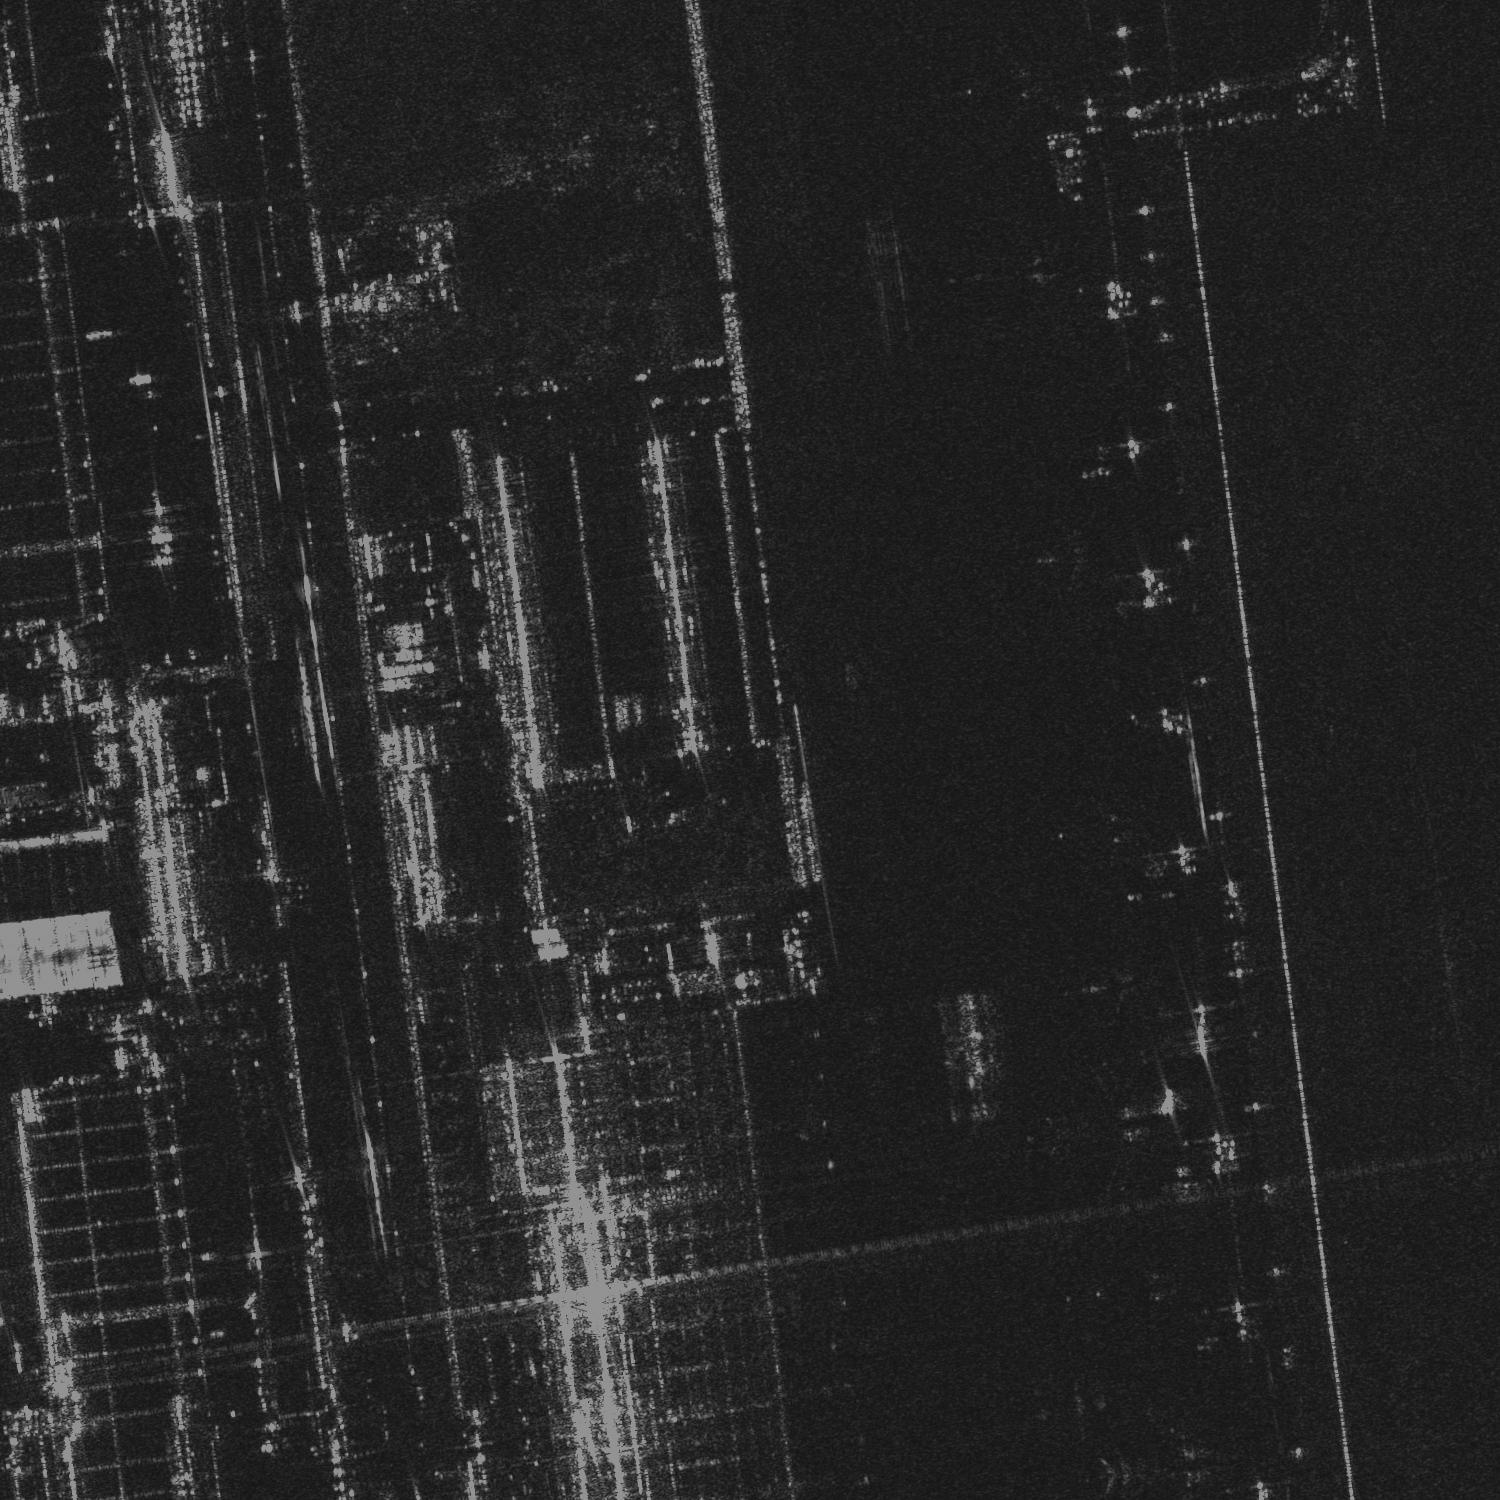A220: (1062, 948, 1150, 1027)
A330: (1045, 1063, 1158, 1192)
Boeing787: (1099, 1402, 1238, 1499), (1029, 518, 1106, 593)
